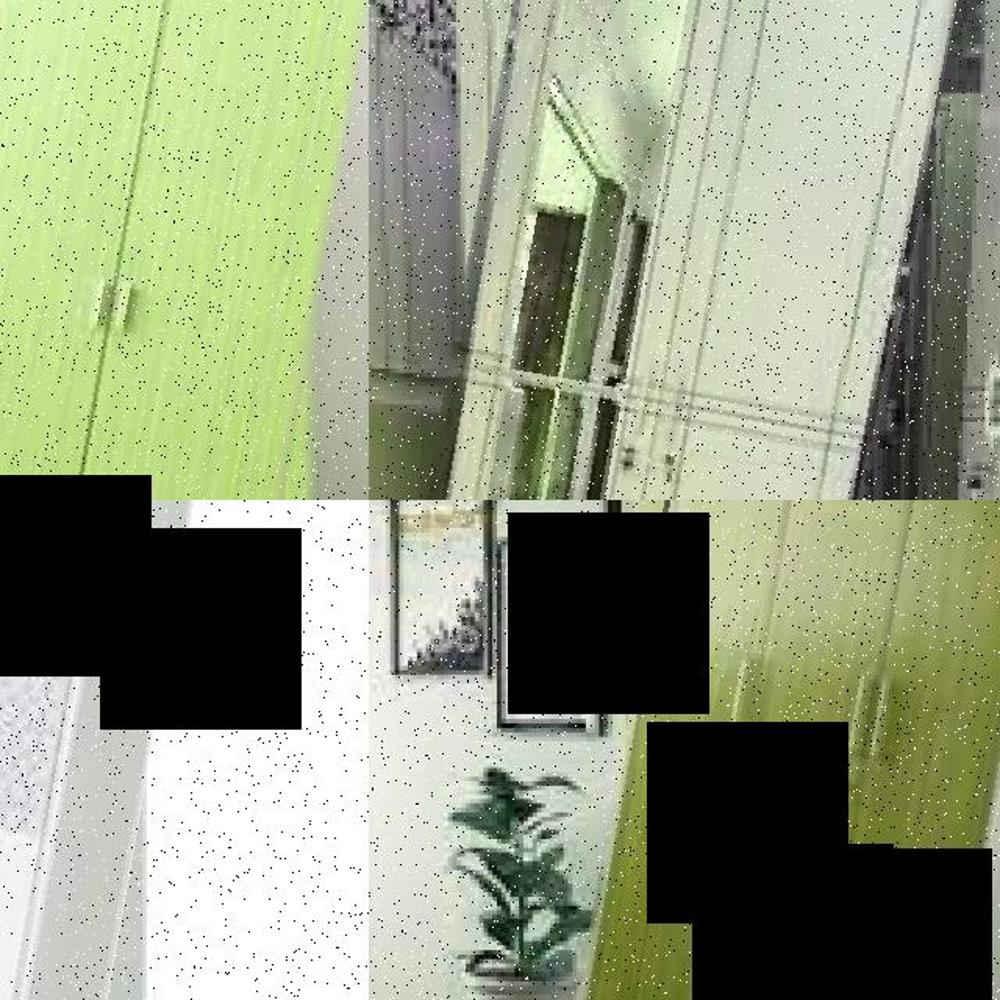cabinet: (409, 0, 927, 500), (584, 500, 1000, 1000), (0, 0, 348, 500), (0, 500, 247, 1000)
